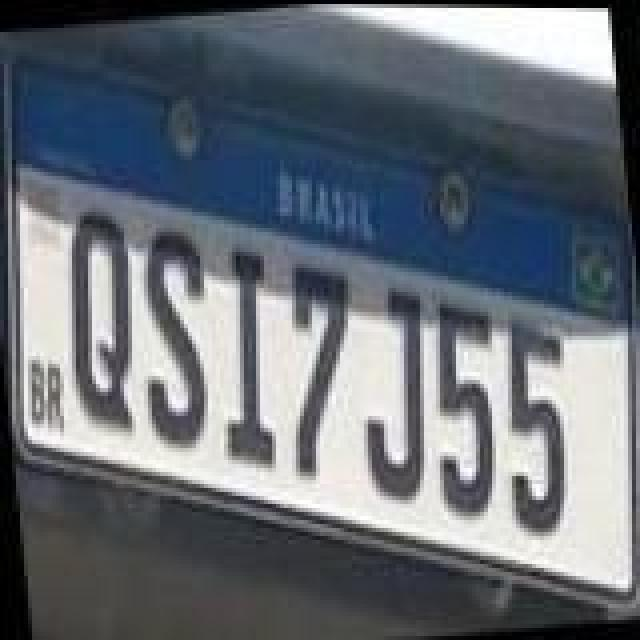5: (492, 310, 580, 542), (420, 294, 508, 518)
7: (274, 260, 366, 484)
I: (210, 238, 286, 470)
J: (348, 276, 444, 500)
Q: (58, 206, 150, 438)
S: (130, 224, 222, 452)
